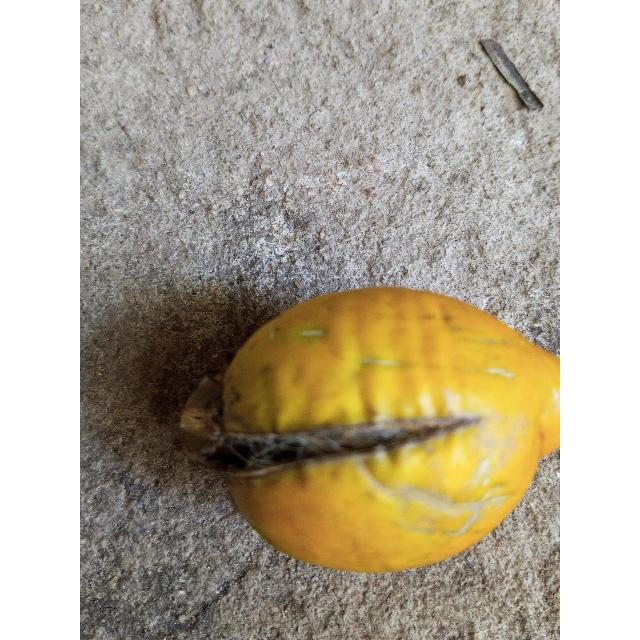damaged: (180, 287, 560, 572)
